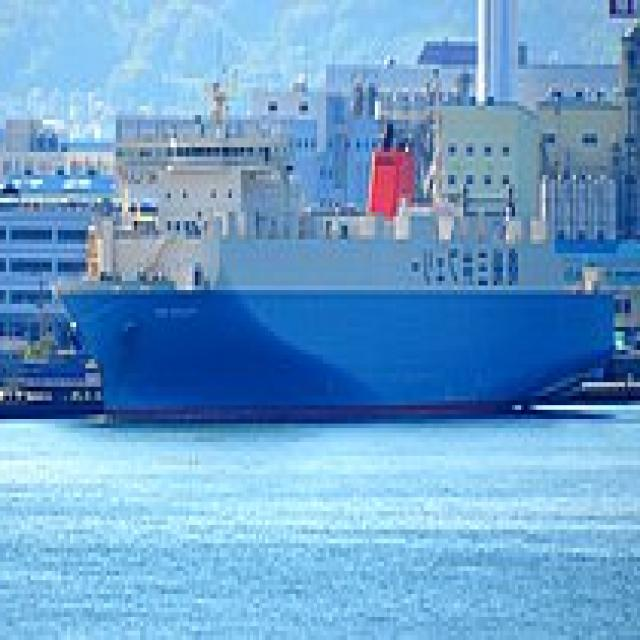Carrier: (58, 83, 622, 419)
